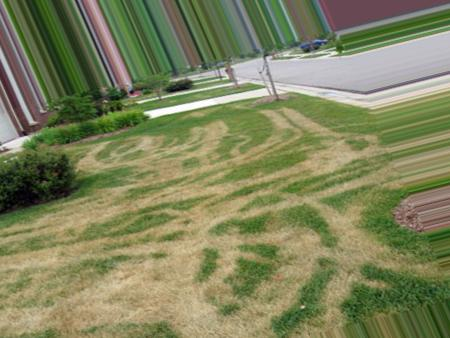patch: (102, 263, 193, 308), (40, 293, 81, 323), (200, 309, 230, 333), (295, 238, 325, 259), (166, 231, 203, 246), (48, 252, 82, 268), (18, 272, 51, 288), (268, 280, 295, 295)
